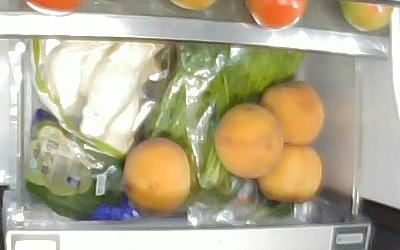peach: (121, 137, 191, 215), (215, 103, 283, 179), (257, 82, 326, 145), (259, 146, 324, 203)
